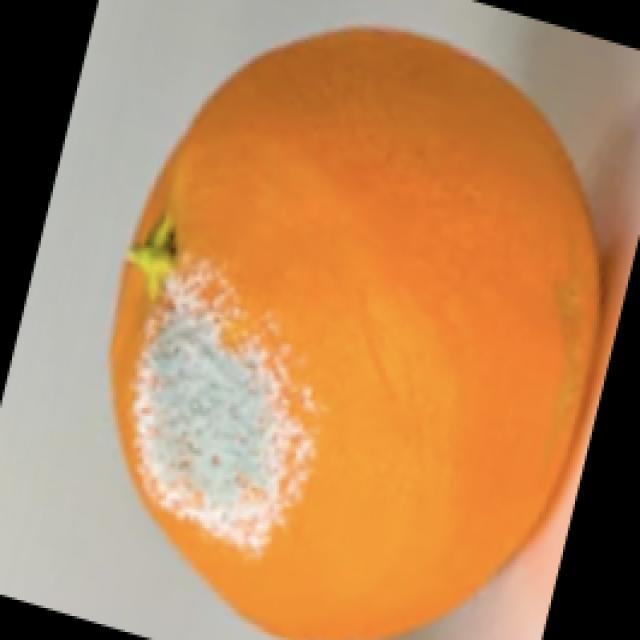sedikit-busuk: (113, 30, 599, 639), (135, 257, 312, 549), (396, 215, 399, 221)
